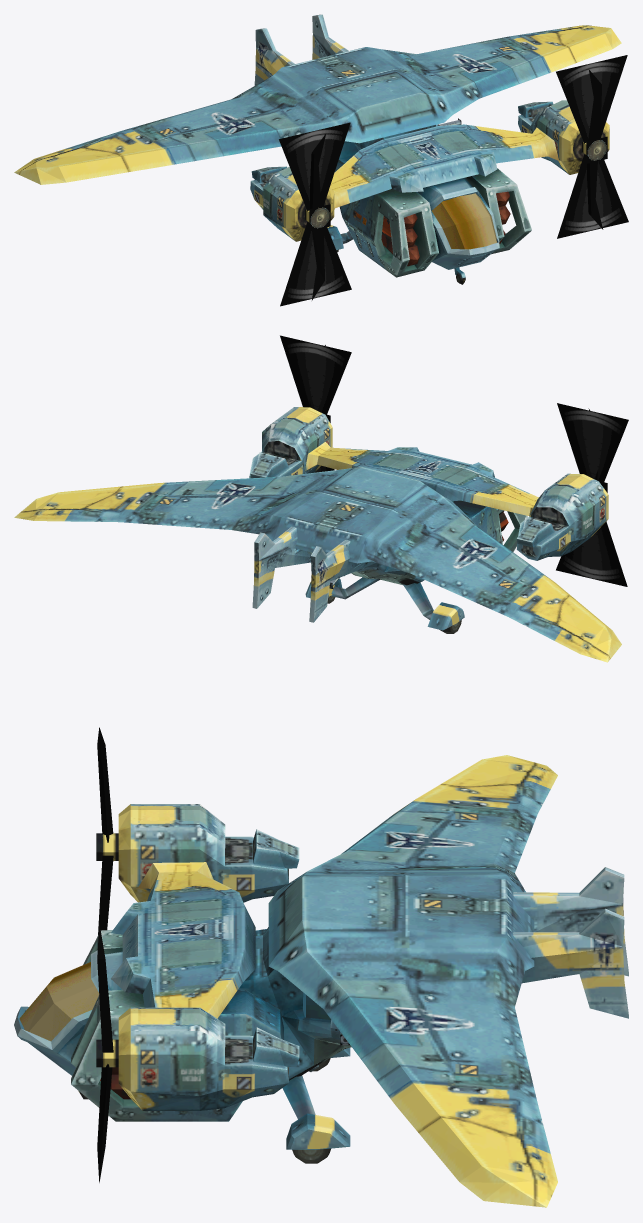
File: VXBOMBERH.obj
3 renders of one model, top to bottom at view 1: azimuth 30°, elevation 25°; view 2: azimuth 150°, elevation 25°; view 3: azimuth 270°, elevation 25°, orthographic. The views are drawn at different scales.
Visible parts, largest first — view 1: Node 0, Node 12, Node 16, Node 15, Node 13, Node 11, Node 14; view 2: Node 0, Node 16, Node 12, Node 40, Node 38; view 3: Node 0, Node 38, Node 13, Node 15.
Part boxes in pixels (x1,y1,x2,y2): Node 0: (14,14,621,277); Node 12: (556,55,628,238); Node 16: (279,122,351,306); Node 15: (310,134,325,300); Node 13: (587,69,603,229); Node 11: (582,136,607,163); Node 14: (305,204,330,231); Node 0: (14,407,621,662); Node 16: (556,403,628,586); Node 12: (280,335,351,472); Node 40: (403,582,464,630); Node 38: (305,577,379,599); Node 0: (14,755,628,1207); Node 38: (282,1075,350,1149); Node 13: (97,923,113,1182); Node 15: (97,727,113,934).
Bounding box in the file's own units: 25.1 × 7.77 × 14.76.
